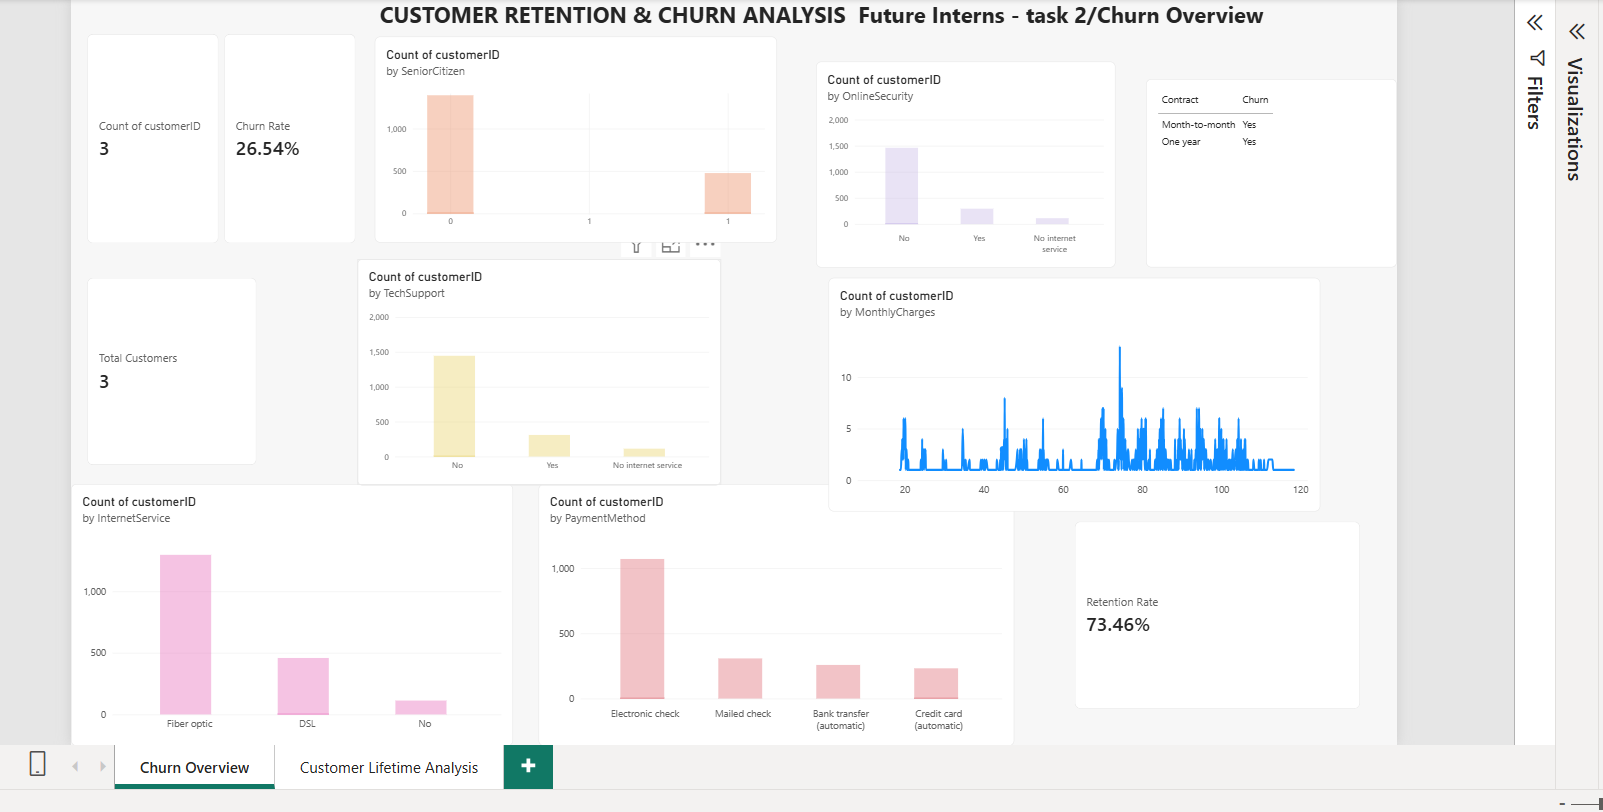

This screenshot's page, from the dashboard's own definition file:
{"tool":"powerbi","page":{"name":"Page 1","canvas":[1920,1080],"ordinal":0},"visuals":[{"type":"cardVisual","fields":{"Data":["Count(WA_Fn-UseC_-Telco-Customer-Churn (1).customerID)"]},"box":[25.2,323.6,337,303.1],"z":0},{"type":"cardVisual","fields":{"Data":["CountNonNull(WA_Fn-UseC_-Telco-Customer-Churn (1).customerID)","WA_Fn-UseC_-Telco-Customer-Churn (1).Churn Rate"]},"box":[25.2,0,389.1,303.1],"z":1},{"type":"tableEx","fields":{"Values":["WA_Fn-UseC_-Telco-Customer-Churn (1).Contract","WA_Fn-UseC_-Telco-Customer-Churn (1).Churn"]},"box":[1521,722.2,363.5,273.1],"z":2},{"type":"clusteredColumnChart","fields":{"Category":["WA_Fn-UseC_-Telco-Customer-Churn (1).InternetService"],"Y":["CountNonNull(WA_Fn-UseC_-Telco-Customer-Churn (1).customerID)"]},"box":[0,637.4,640.8,443.3],"z":3},{"type":"clusteredColumnChart","fields":{"Category":["WA_Fn-UseC_-Telco-Customer-Churn (1).PaymentMethod"],"Y":["CountNonNull(WA_Fn-UseC_-Telco-Customer-Churn (1).customerID)"]},"box":[744.4,637.4,689.2,443.3],"z":4},{"type":"clusteredColumnChart","fields":{"Category":["WA_Fn-UseC_-Telco-Customer-Churn (1).TechSupport"],"Y":["CountNonNull(WA_Fn-UseC_-Telco-Customer-Churn (1).customerID)"]},"box":[532.6,308.6,527.4,365.6],"z":5},{"type":"clusteredColumnChart","fields":{"Category":["WA_Fn-UseC_-Telco-Customer-Churn (1).SeniorCitizen"],"Y":["CountNonNull(WA_Fn-UseC_-Telco-Customer-Churn (1).customerID)"]},"box":[506.3,0,582,298.4],"z":6},{"type":"lineChart","fields":{"Category":["WA_Fn-UseC_-Telco-Customer-Churn (1).MonthlyCharges"],"Y":["CountNonNull(WA_Fn-UseC_-Telco-Customer-Churn (1).customerID)"]},"box":[1172,322.8,712.3,338.3],"z":7},{"type":"clusteredColumnChart","fields":{"Category":["WA_Fn-UseC_-Telco-Customer-Churn (1).OnlineSecurity"],"Y":["CountNonNull(WA_Fn-UseC_-Telco-Customer-Churn (1).customerID)"]},"box":[1220.4,0,433.7,298.6],"z":8}]}

Visuals, with their boxes on the page's 1920x1080 design canvas (x1, y1, x2, y2). These are canvas units, not pixel positions in the 1603x812 screenshot, which may show the page scaled, cropped or inside an application window:
cardVisual - Count(WA_Fn-UseC_-Telco-Customer-Churn (1).customerID): bbox=[25, 324, 362, 627]
cardVisual - CountNonNull(WA_Fn-UseC_-Telco-Customer-Churn (1).customerID) x WA_Fn-UseC_-Telco-Customer-Churn (1).Churn Rate: bbox=[25, 0, 414, 303]
tableEx - WA_Fn-UseC_-Telco-Customer-Churn (1).Contract x WA_Fn-UseC_-Telco-Customer-Churn (1).Churn: bbox=[1521, 722, 1884, 995]
clusteredColumnChart - WA_Fn-UseC_-Telco-Customer-Churn (1).InternetService x CountNonNull(WA_Fn-UseC_-Telco-Customer-Churn (1).customerID): bbox=[0, 637, 641, 1081]
clusteredColumnChart - WA_Fn-UseC_-Telco-Customer-Churn (1).PaymentMethod x CountNonNull(WA_Fn-UseC_-Telco-Customer-Churn (1).customerID): bbox=[744, 637, 1434, 1081]
clusteredColumnChart - WA_Fn-UseC_-Telco-Customer-Churn (1).TechSupport x CountNonNull(WA_Fn-UseC_-Telco-Customer-Churn (1).customerID): bbox=[533, 309, 1060, 674]
clusteredColumnChart - WA_Fn-UseC_-Telco-Customer-Churn (1).SeniorCitizen x CountNonNull(WA_Fn-UseC_-Telco-Customer-Churn (1).customerID): bbox=[506, 0, 1088, 298]
lineChart - WA_Fn-UseC_-Telco-Customer-Churn (1).MonthlyCharges x CountNonNull(WA_Fn-UseC_-Telco-Customer-Churn (1).customerID): bbox=[1172, 323, 1884, 661]
clusteredColumnChart - WA_Fn-UseC_-Telco-Customer-Churn (1).OnlineSecurity x CountNonNull(WA_Fn-UseC_-Telco-Customer-Churn (1).customerID): bbox=[1220, 0, 1654, 299]
